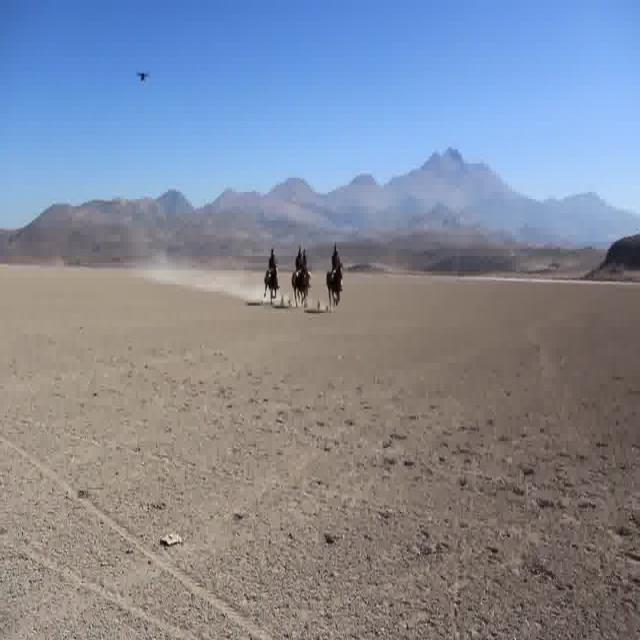drones: (132, 62, 155, 92)
